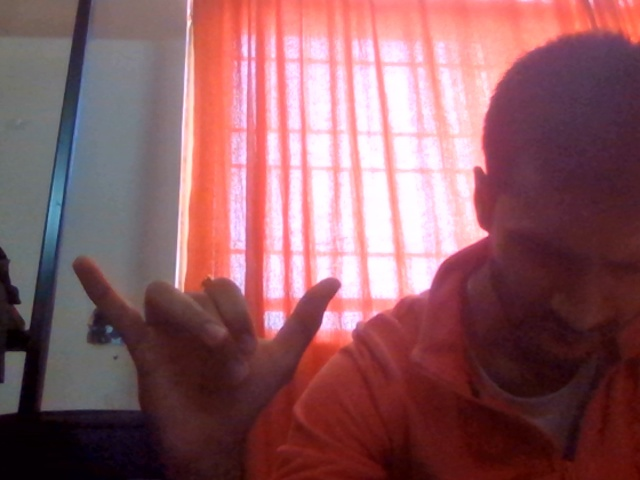Y: (52, 229, 368, 480)
